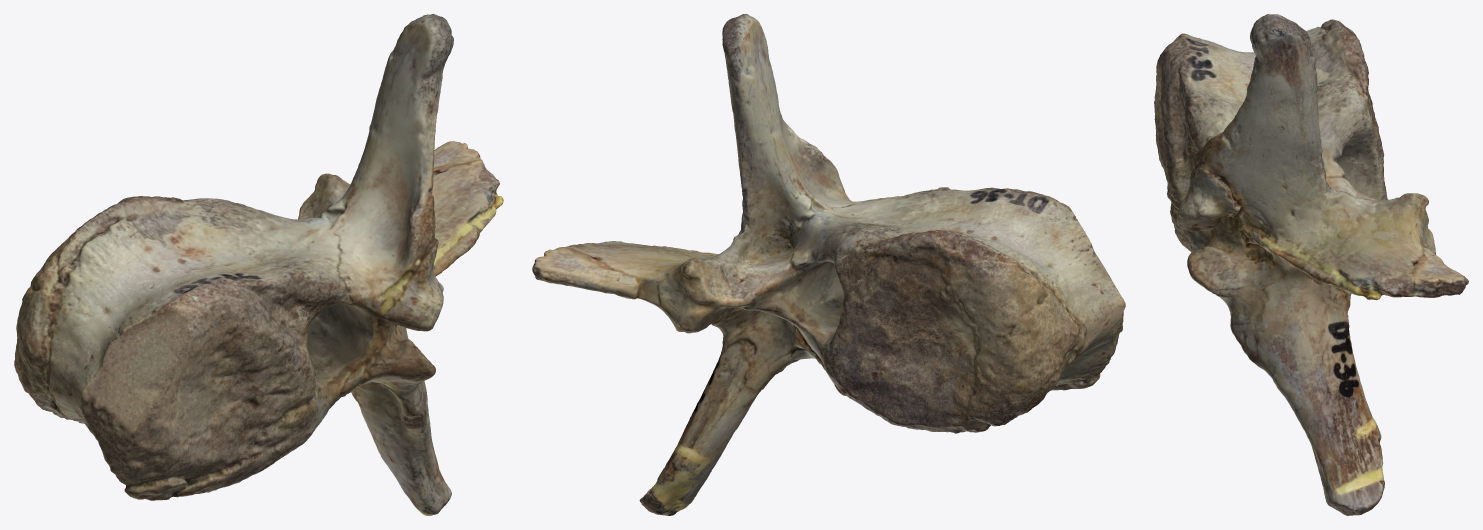
Rendered from 1-4_Dinosaur Vertebrae.glb.
3 renders of one model, left to right at view 1: azimuth 30°, elevation 25°; view 2: azimuth 150°, elevation 25°; view 3: azimuth 270°, elevation 25°, orthographic. The views are drawn at different scales.
Visible parts, largest first — view 1: 3DModel; view 2: 3DModel; view 3: 3DModel.
Boxes of the visible parts, x1,y1,x2,y2 form: 3DModel: [14, 14, 503, 515]; 3DModel: [532, 14, 1125, 515]; 3DModel: [1154, 14, 1468, 515].
Bounding box in the file's own units: 0.7044 × 0.6925 × 0.4096.
Materials: 1 (1 with a texture image).
